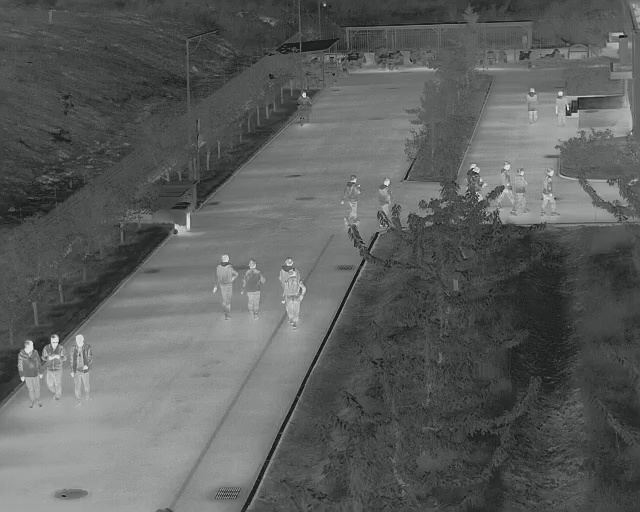NonMotorVehicle: (294, 88, 313, 127)
person: (69, 333, 96, 407), (16, 337, 42, 411), (280, 268, 310, 329), (42, 332, 65, 405), (212, 254, 237, 320), (241, 259, 267, 322), (341, 174, 363, 226), (540, 168, 563, 215), (511, 167, 526, 214), (553, 89, 571, 128), (501, 159, 514, 206), (378, 176, 392, 216), (526, 87, 539, 125)
